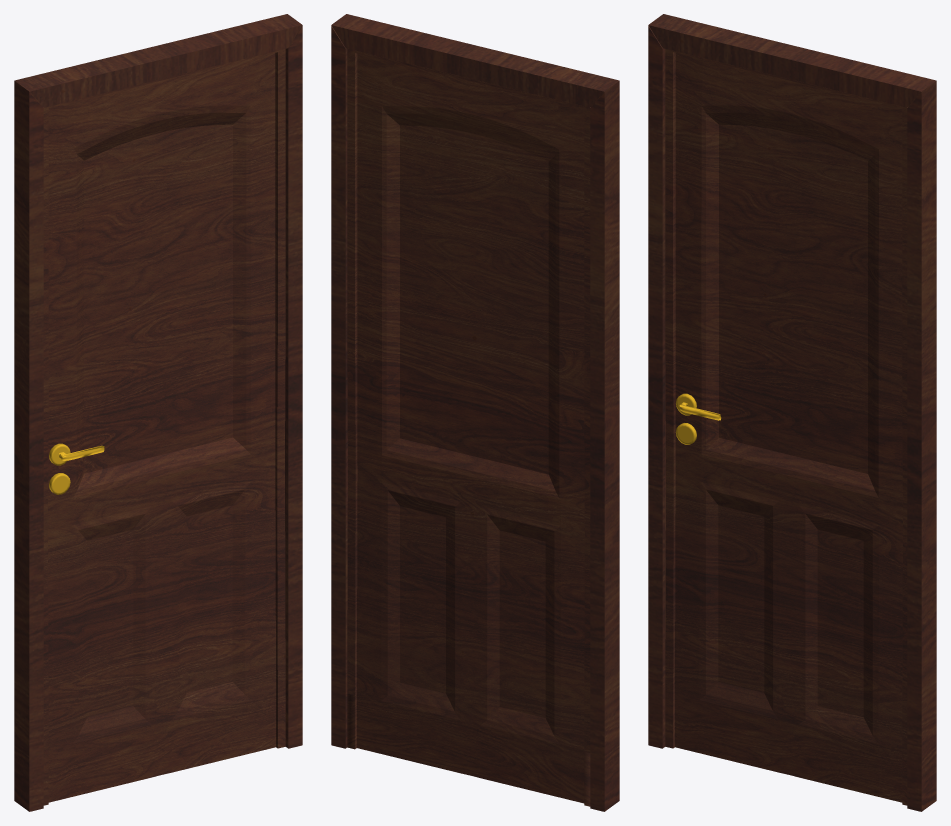
Rendered from PUERTA7_VIRGINIA.glb.
The picture shows the model from 3 angles, left to right: view 1: azimuth 30°, elevation 25°; view 2: azimuth 150°, elevation 25°; view 3: azimuth 330°, elevation 25°; orthographic projection.
Visible parts, largest first — view 1: Puerta7_VIRGINIA, Puerta7_Marco, Puerta7_Cerradura; view 2: Puerta7_VIRGINIA, Puerta7_Marco; view 3: Puerta7_VIRGINIA, Puerta7_Marco, Puerta7_Cerradura.
Boxes of the visible parts, bbox=[...] form: Puerta7_VIRGINIA: bbox=[43, 49, 285, 805]; Puerta7_Marco: bbox=[14, 14, 302, 811]; Puerta7_Cerradura: bbox=[49, 443, 104, 494]; Puerta7_VIRGINIA: bbox=[347, 48, 590, 806]; Puerta7_Marco: bbox=[331, 14, 619, 811]; Puerta7_VIRGINIA: bbox=[665, 49, 907, 805]; Puerta7_Marco: bbox=[648, 14, 936, 811]; Puerta7_Cerradura: bbox=[675, 393, 721, 444].
Size of the model in its own units: 769 by 1936 by 85.
5 materials, 4 textured.
